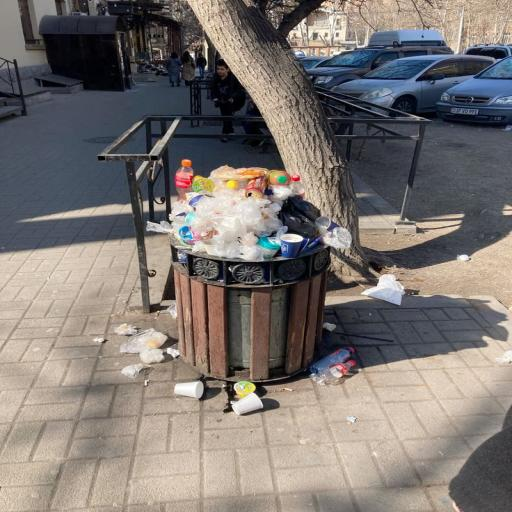book: (333, 54, 495, 114), (436, 56, 512, 124)
glass_wall: (0, 83, 512, 512)
ramp: (168, 235, 330, 392)
